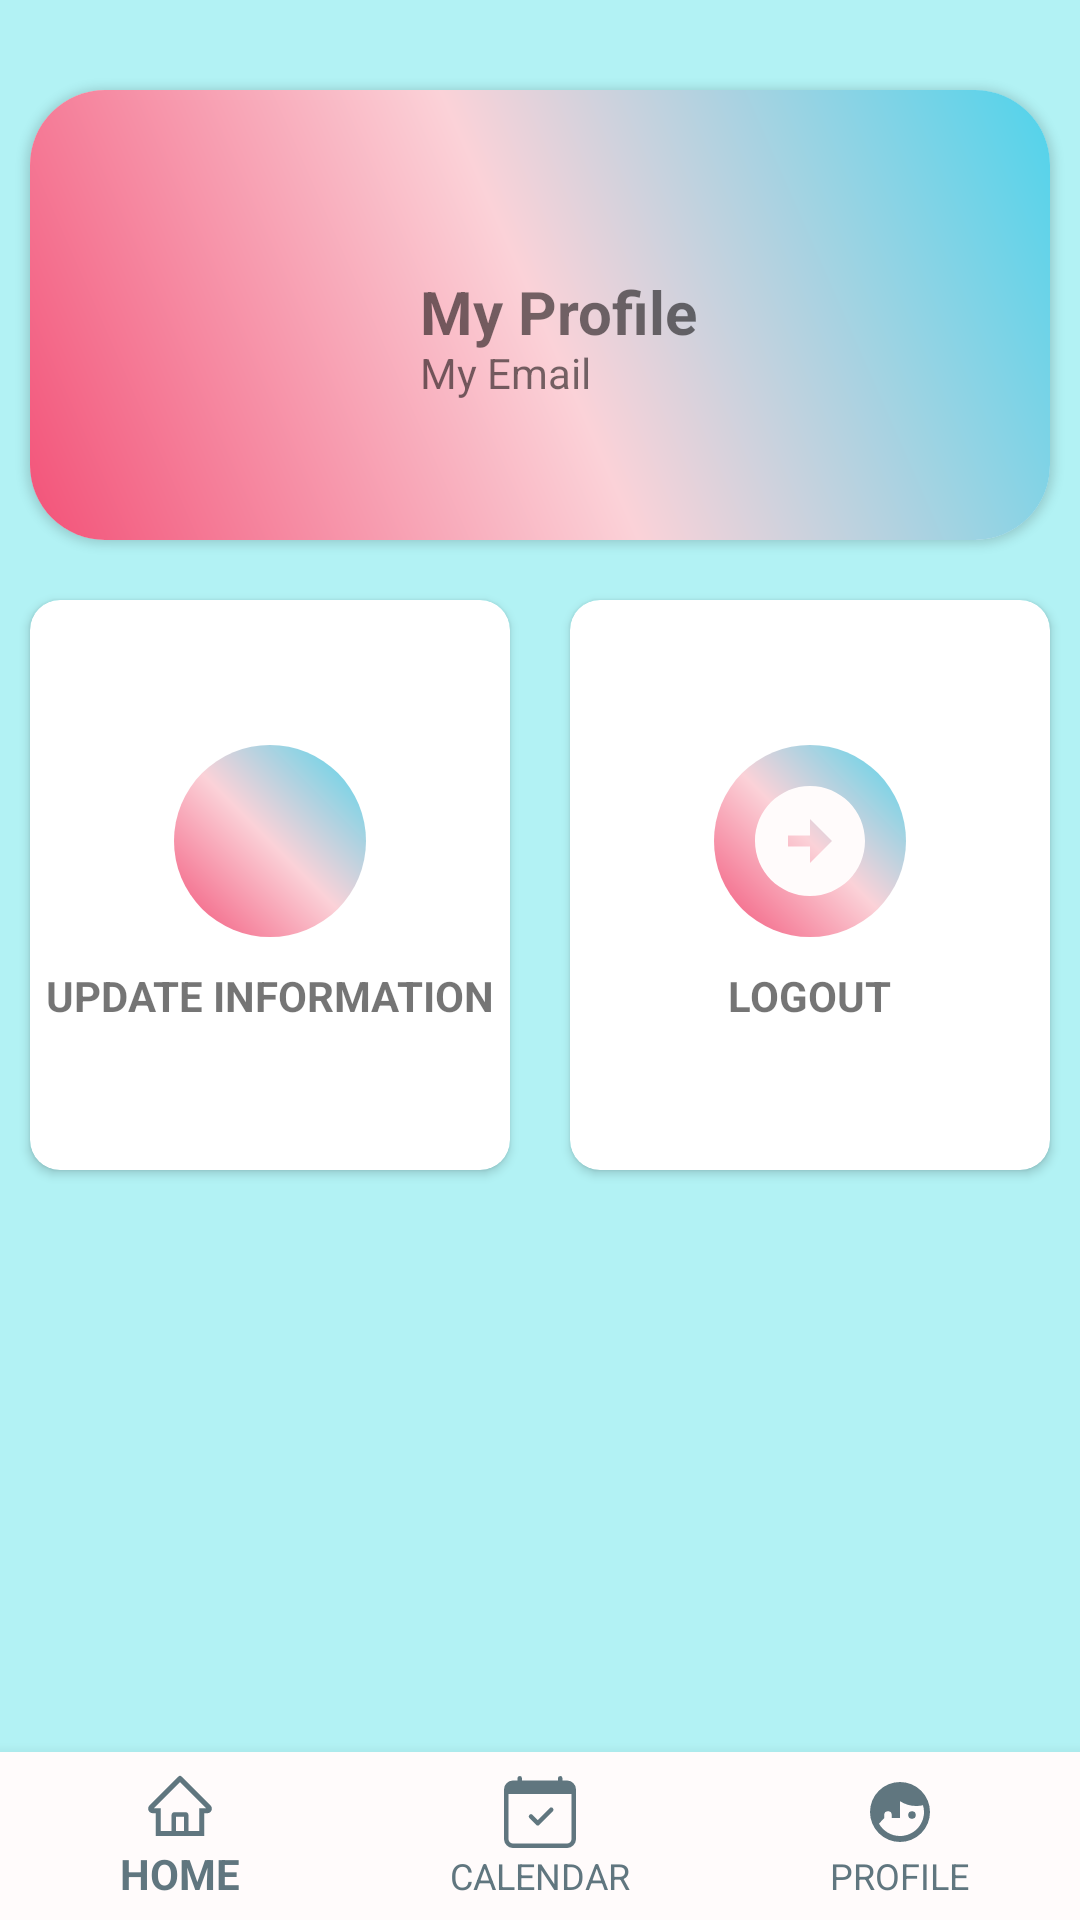

Named icons in this screenshot (1080px×1920px) and their centers, point (x, y):
arrow circle right: point (810, 841)
